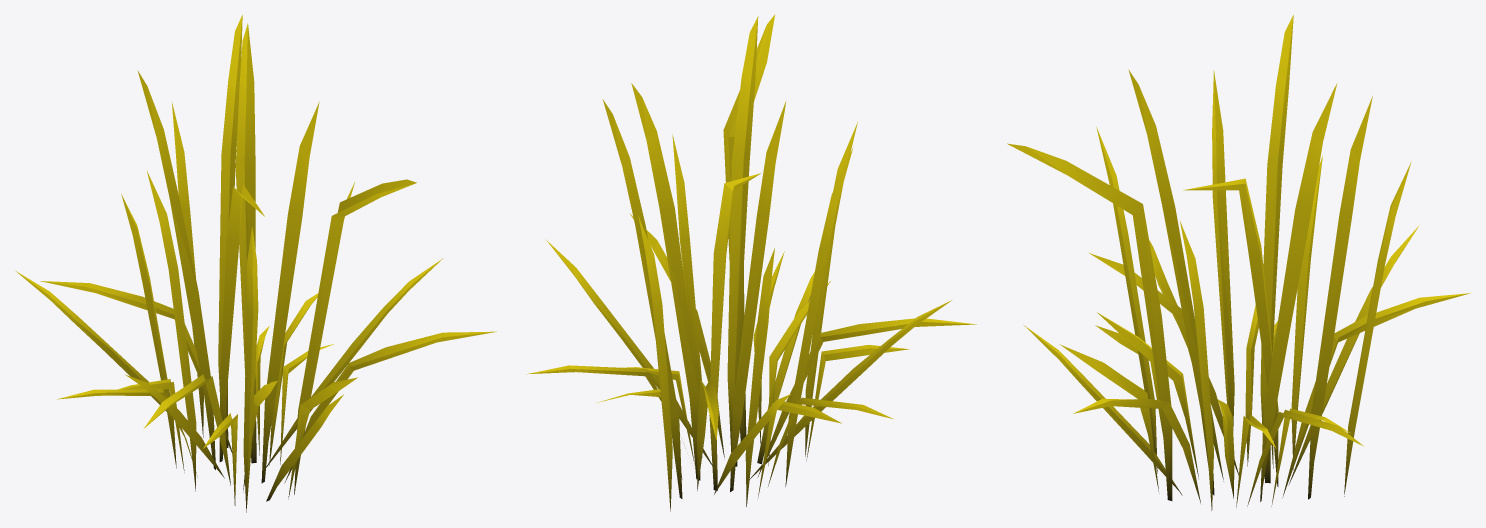
File: Grass_Wispy_Tall.glb
The picture shows the model from 3 angles, left to right: view 1: azimuth 30°, elevation 25°; view 2: azimuth 150°, elevation 25°; view 3: azimuth 270°, elevation 25°; orthographic projection. The views are drawn at different scales.
Size of the model in its own units: 1.54 by 1.66 by 1.59.
1 material, 1 textured.
